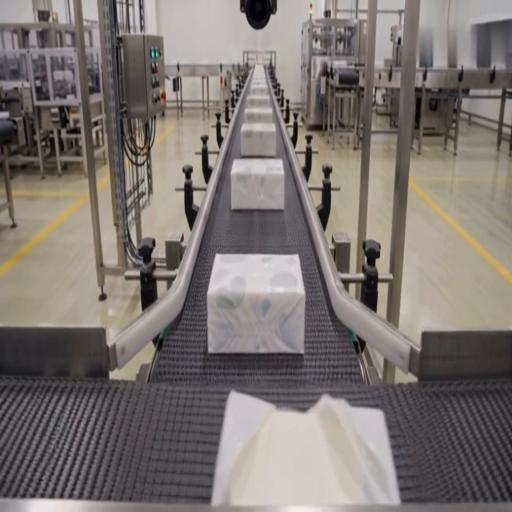defective: (214, 387, 397, 508)
good: (207, 254, 305, 356), (229, 159, 285, 212), (238, 121, 278, 159), (244, 93, 273, 113), (243, 106, 273, 124), (248, 67, 270, 86), (247, 84, 271, 98)
